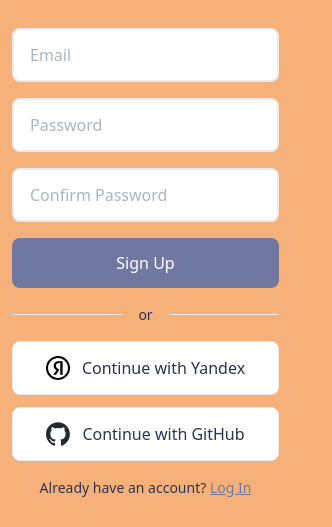
Test: Authentication Forms › RegisterForm › shows error when passwords do not match
Type "password123" into the password field with placeholder "Password" at point(146, 125), box [12,98,279,152]
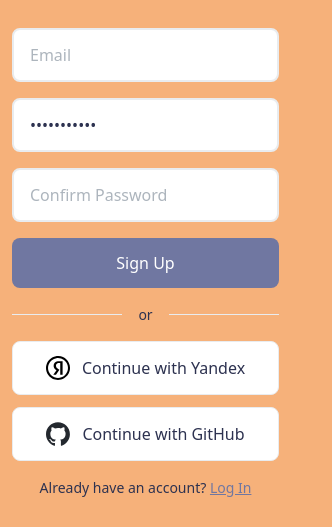
Type "differentpassword" into the password field with placeholder "Confirm Password" at point(146, 195), box [12,168,279,222]
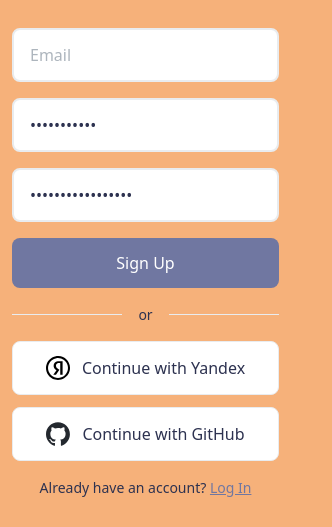
Leave the 2nd password field with placeholder "Confirm Password", box [12,168,279,222]
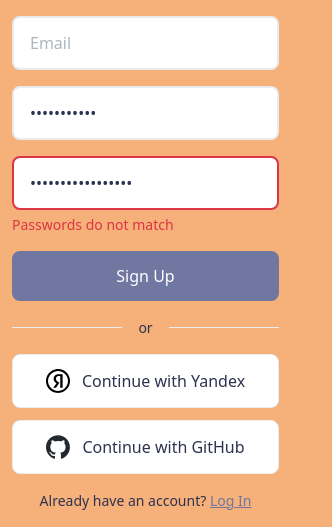
Now the text "Passwords do not match" is shown, box [12,214,174,234]
